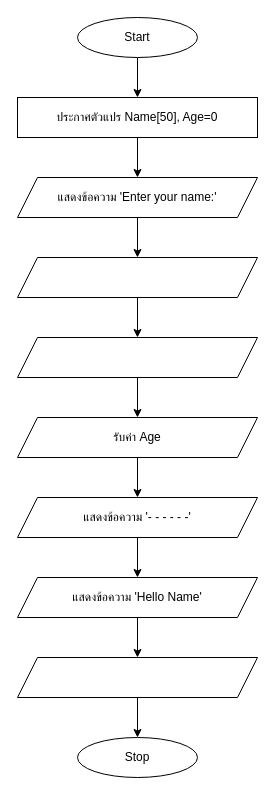
Image size: 275x795. Some labels were removed from this diagram. The shapes that lost their labels are listed below. From the top down, each one's centre as x and y in pixels, then its label:
At point (137, 277): "รับค่า Name".
At point (137, 357): "แสดงข้อความ 'Enter your age:'".
At point (137, 677): "แสดงข้อความ 'Age = ...'".
